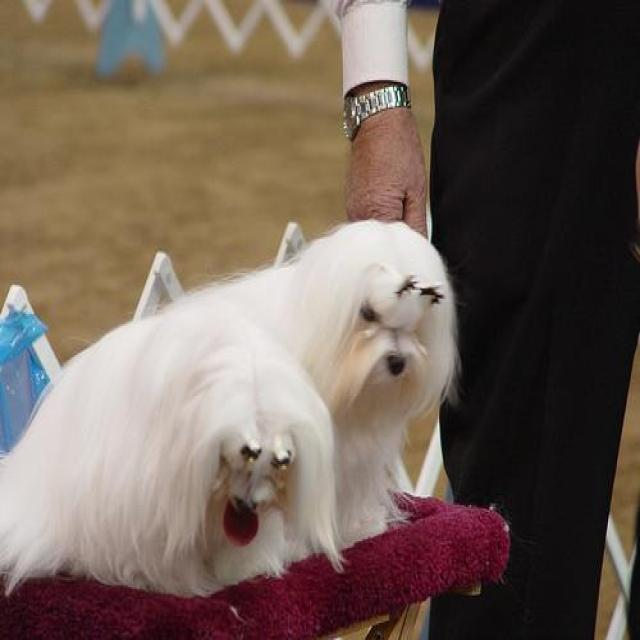maltese_dog: (156, 218, 462, 556), (0, 306, 346, 599)
